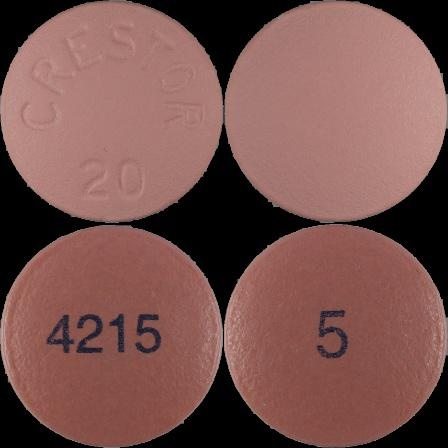55154-6926: (0, 0, 224, 224)
